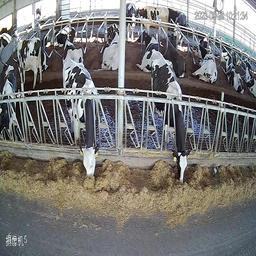cow: (150, 57, 191, 183), (60, 58, 100, 185), (16, 36, 42, 88), (137, 4, 169, 43), (1, 63, 17, 141), (160, 39, 186, 83), (134, 31, 161, 72), (193, 45, 218, 83), (224, 52, 244, 96), (101, 27, 119, 72), (64, 26, 84, 65), (126, 1, 137, 42), (176, 10, 187, 50), (244, 63, 255, 100), (50, 25, 66, 48), (163, 3, 178, 27), (107, 20, 118, 46)
